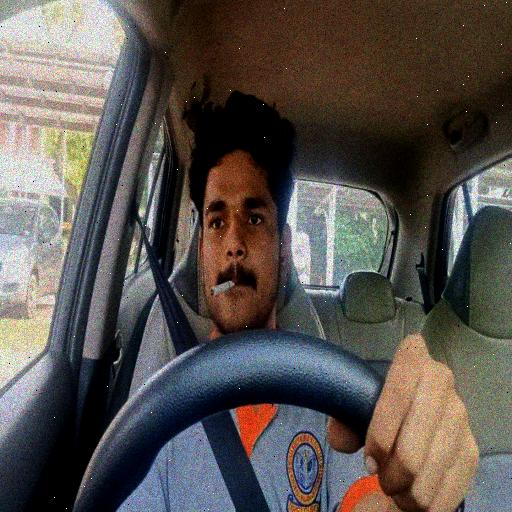Smoking: (116, 87, 482, 512)
